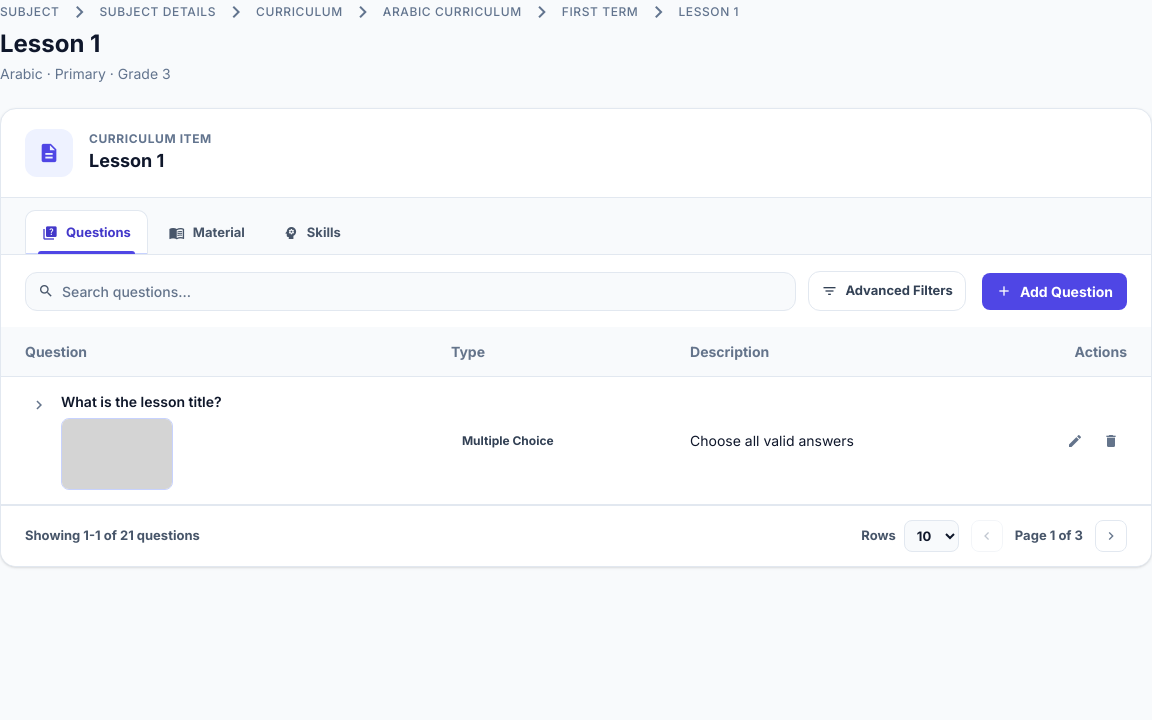
Test case: TenantSubjectCurriculumDetailsComponent › confirms and deletes a question through the backend
Click the button with class "curriculum-details-table-action--danger": (1111, 440) x1=1095 y1=424 x2=1127 y2=456
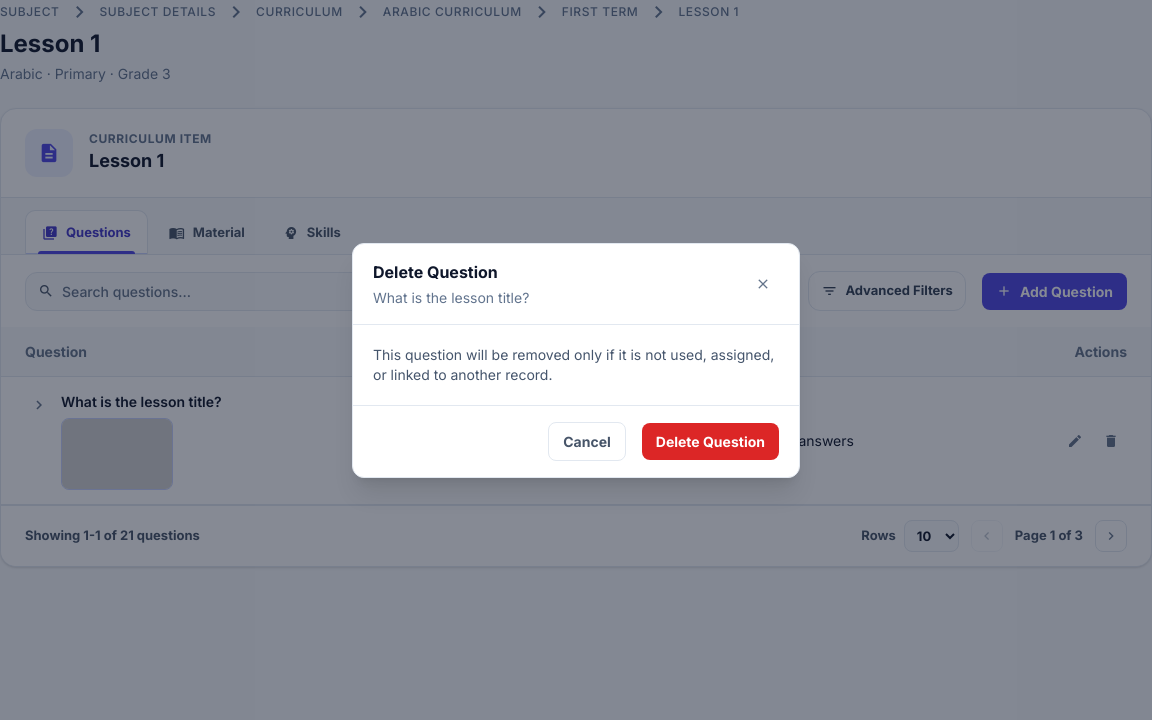
Expected: the text "What is the lesson title?" is shown, x1=61 y1=391 x2=222 y2=412
Now the text "Delete Question" is shown, box x1=373 y1=262 x2=498 y2=282
Click the button with class "curriculum-details-modal-danger": (710, 441) x1=642 y1=422 x2=779 y2=460
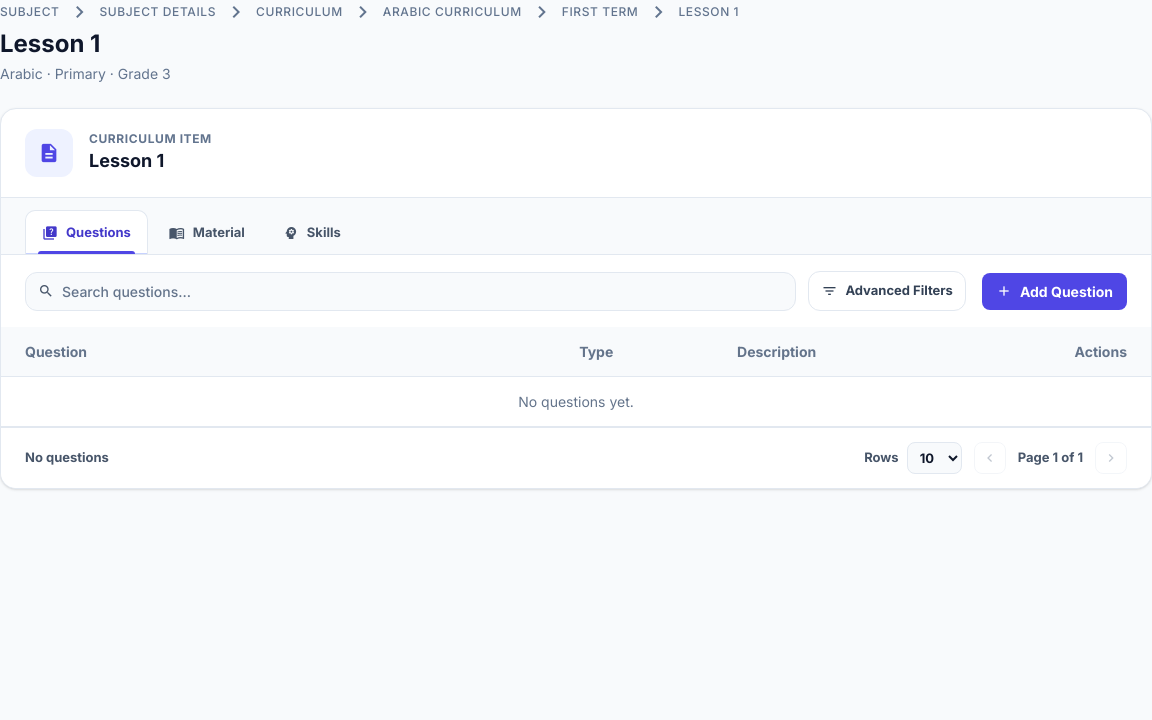
Now the text "No questions yet." is shown, box x1=1 y1=376 x2=1151 y2=426
